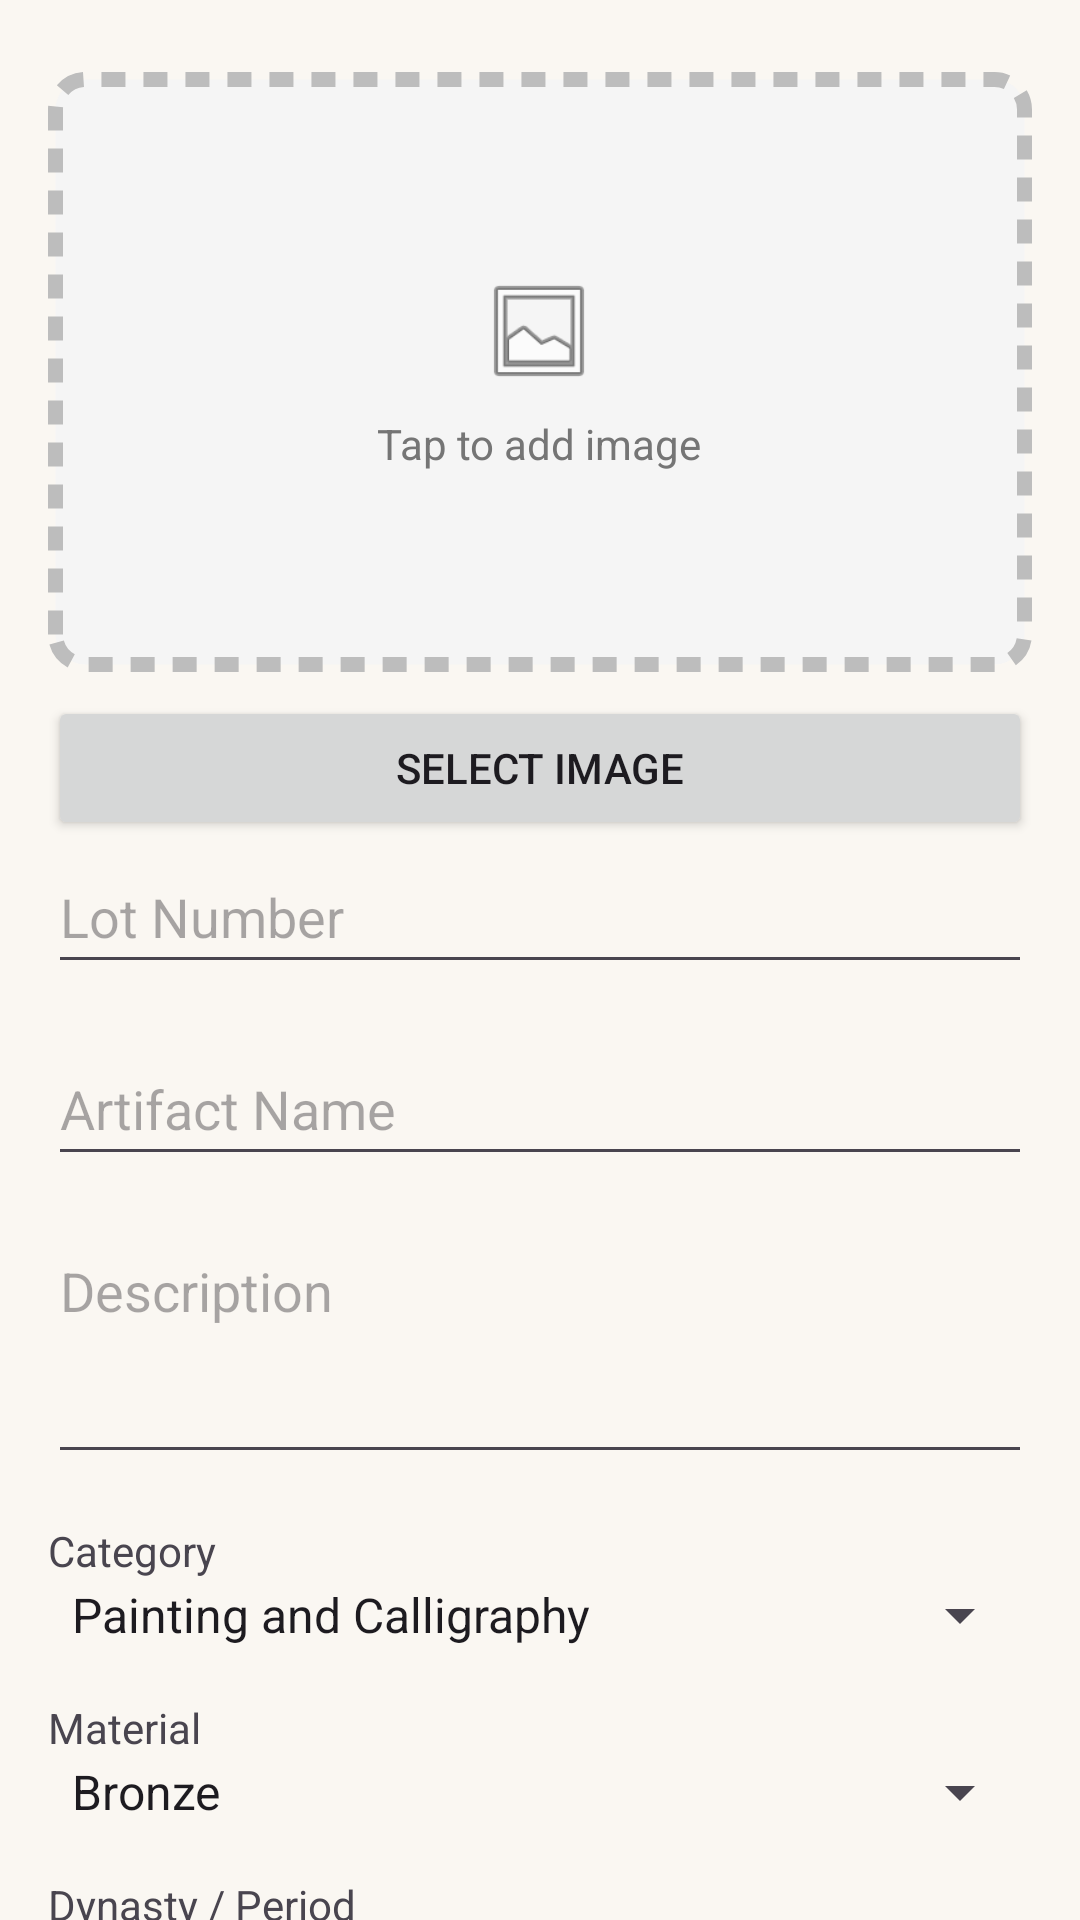

Icons on this 1080px x 1920px Android screen, each with the point to tap as (x,y):
gallery: (539,331)
